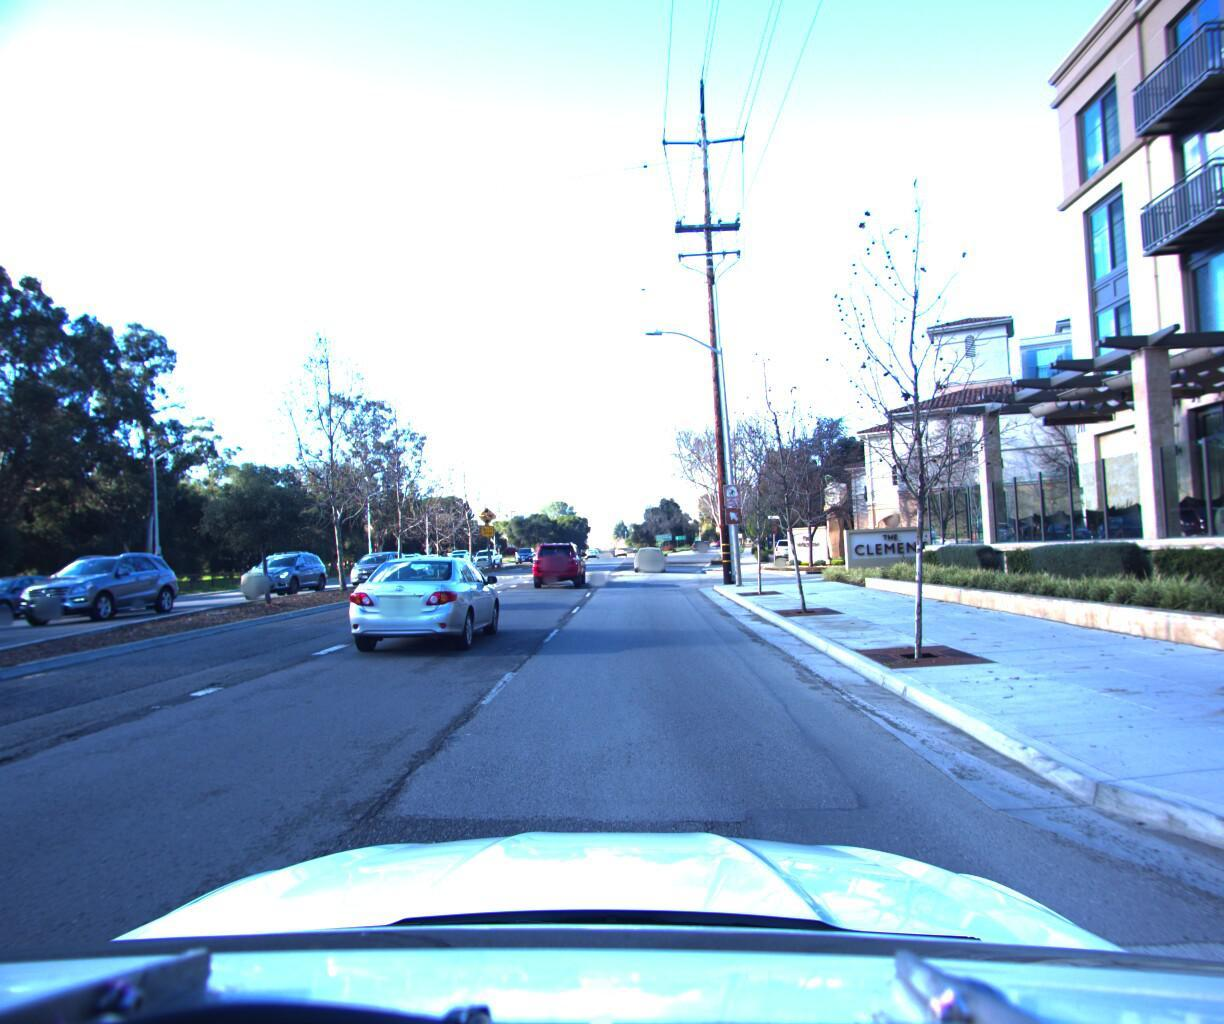car: (334, 540, 506, 658), (6, 546, 192, 626), (237, 543, 340, 595), (0, 569, 87, 623), (527, 534, 588, 585), (348, 543, 415, 580), (402, 546, 454, 573), (630, 540, 667, 569), (469, 541, 505, 563), (773, 528, 798, 554), (511, 540, 537, 558)
